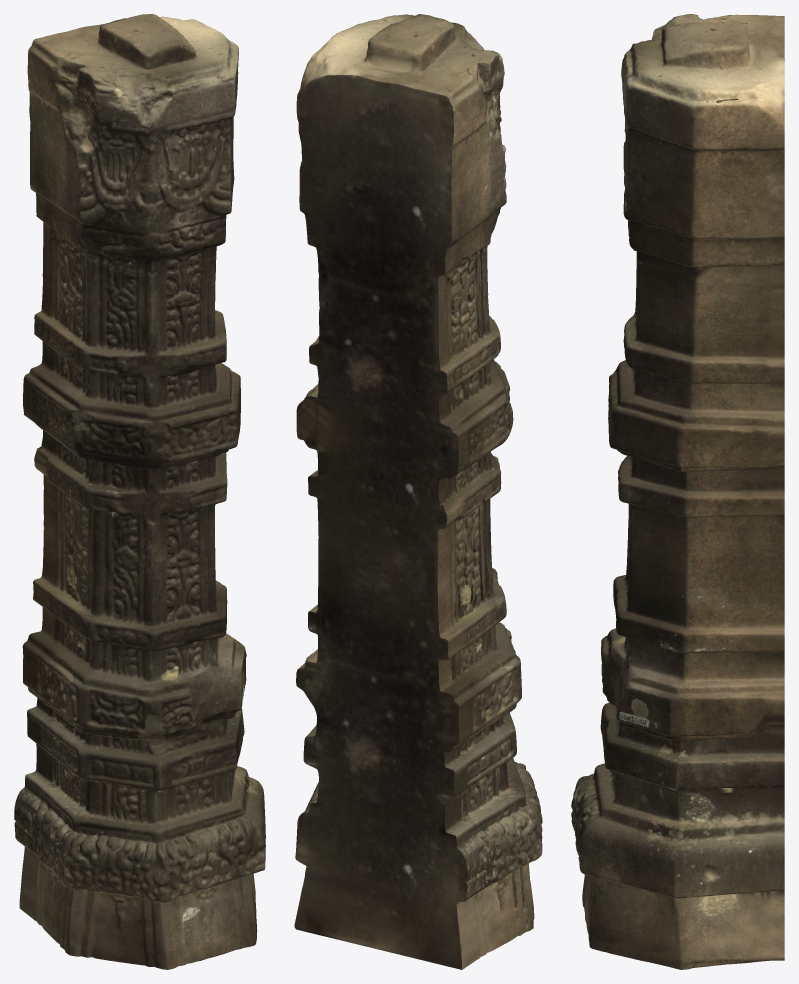
Rendered from MysonMuseum_trucuaF1_final.glb.
3 views of the same model, side by side, from view 1: azimuth 30°, elevation 25°; view 2: azimuth 150°, elevation 25°; view 3: azimuth 270°, elevation 25° (orthographic).
Size of the model in its own units: 0.4898 by 1.98 by 0.4304.
Materials: 1 (1 with a texture image).
